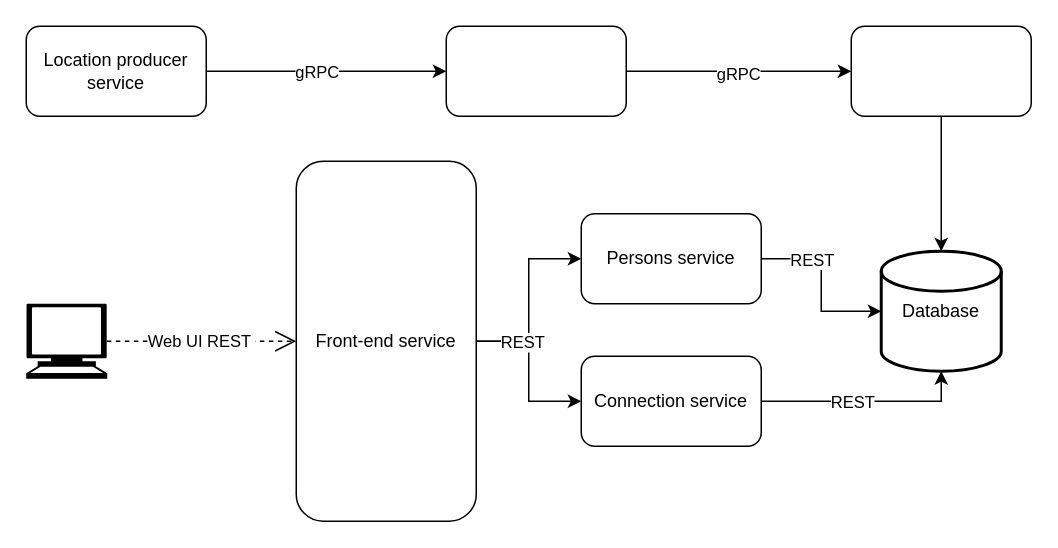
Image size: 1058x548. Some labels were removed from this diagram. Here are the shapes that lost their labels. From the top down, the box of each, then its label:
(445, 25, 626, 116): Kafka service
(850, 25, 1031, 116): Location consumer service
